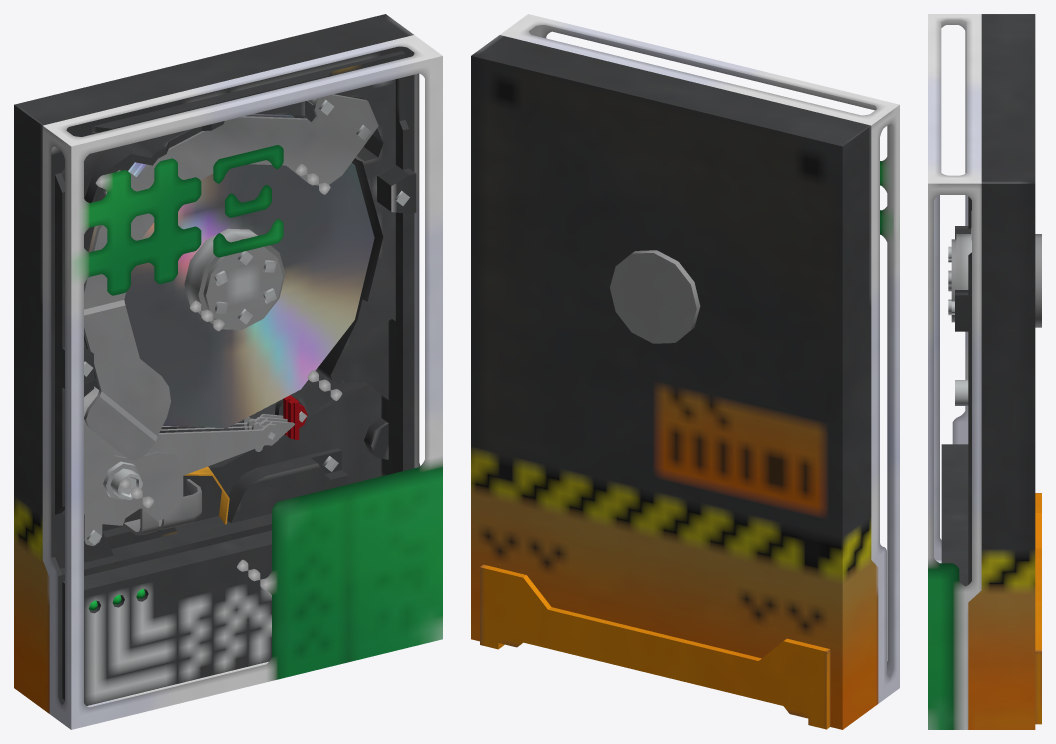
File: black_box.obj
3 views of the same model, side by side, from view 1: azimuth 30°, elevation 25°; view 2: azimuth 150°, elevation 25°; view 3: azimuth 270°, elevation 25° (orthographic). The views are drawn at different scales.
Parts seen in each view (by area): view 1: Data_block, Data_block_glass_cover, Data_block_disk, Data_block_shield, Data_block_reader_shield, Data_block_reader, Bolt; view 2: Data_block, Data_block_glass_cover, Data_contact_cover; view 3: Data_block, Data_block_glass_cover, Data_contact_cover, Bolt.
Boxes of the visible parts, x1,y1,x2,y2 form: Data_block: (14,14,416,713); Data_block_glass_cover: (42,35,442,729); Data_block_disk: (84,113,374,428); Data_block_shield: (84,94,378,460); Data_block_reader_shield: (84,386,201,545); Data_block_reader: (109,414,294,517); Bolt: (84,98,409,544); Data_block: (471,35,878,729); Data_block_glass_cover: (500,14,899,703); Data_contact_cover: (480,564,830,729); Data_block: (941,14,1041,729); Data_block_glass_cover: (928,14,981,729); Data_contact_cover: (1035,493,1041,724); Bolt: (948,228,971,405).
Size of the model in its own units: 0.6 by 0.9 by 0.17.
